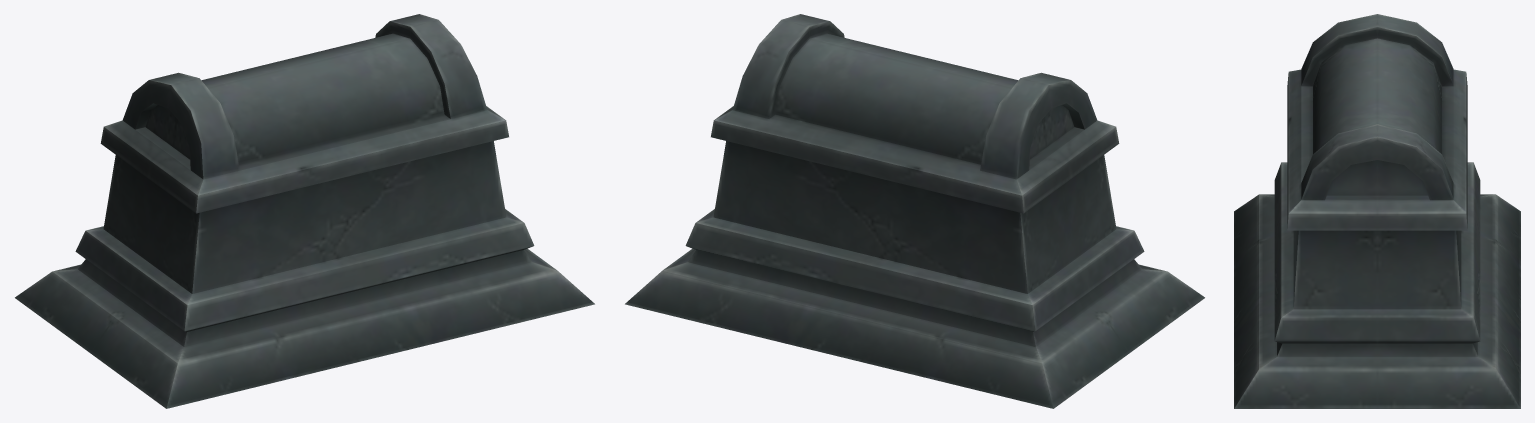
Rendered from sarcofago.glb.
The picture shows the model from 3 angles, left to right: view 1: azimuth 30°, elevation 25°; view 2: azimuth 150°, elevation 25°; view 3: azimuth 270°, elevation 25°; orthographic projection. The views are drawn at different scales.
Parts seen in each view (by area): view 1: Stone_coffin; view 2: Stone_coffin; view 3: Stone_coffin.
Boxes of the visible parts, x1,y1,x2,y2 form: Stone_coffin: (15,14,594,408); Stone_coffin: (625,14,1204,408); Stone_coffin: (1234,14,1520,408).
Bounding box in the file's own units: 150 × 83.12 × 92.11.
Materials: 1 (1 with a texture image).
